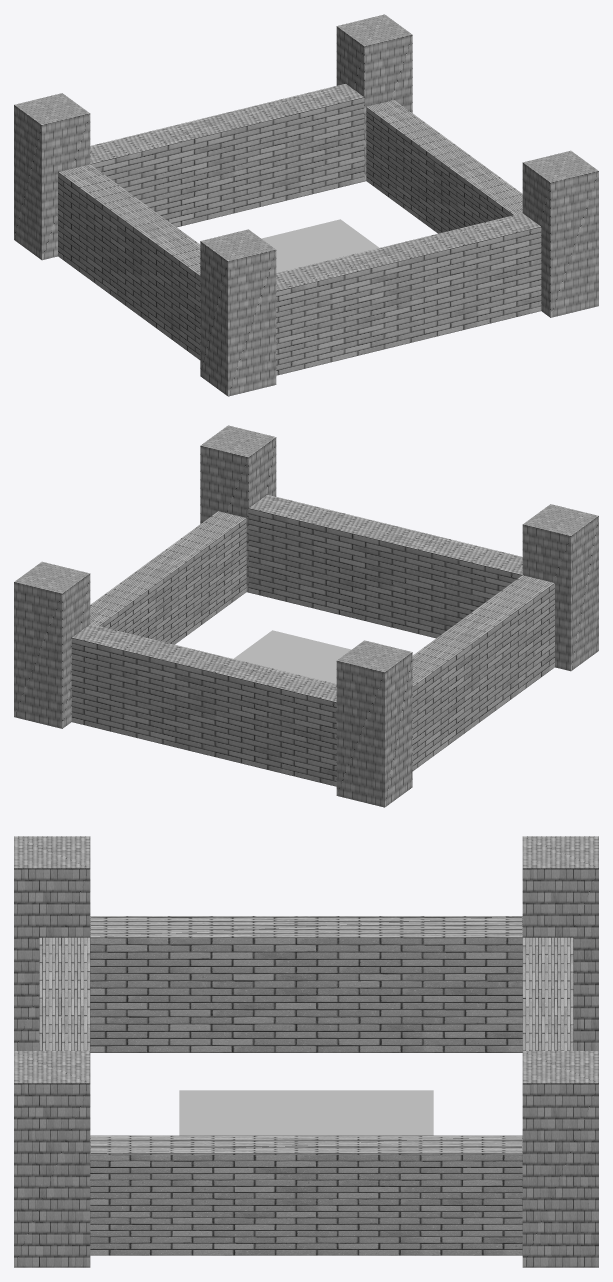
The model's file is castlelevel.FBX.
The picture shows the model from 3 angles, top to bottom: view 1: azimuth 30°, elevation 25°; view 2: azimuth 150°, elevation 25°; view 3: azimuth 270°, elevation 25°; orthographic projection. The views are drawn at different scales.
Visible parts, largest first — view 1: Box007, Box008, Box009, Box010, Box005, Box004, Box006, Box003, Plane001; view 2: Box008, Box007, Box009, Box010, Box006, Box003, Box005, Box004, Plane001; view 3: Box009, Box010, Box003, Box004, Plane001, Box005, Box006, Box007, Box008.
Part boxes in pixels (bbox=[...]): Box007: bbox=[276, 213, 541, 375]; Box008: bbox=[90, 83, 364, 227]; Box009: bbox=[58, 164, 200, 359]; Box010: bbox=[366, 100, 522, 233]; Box005: bbox=[200, 229, 276, 396]; Box004: bbox=[522, 150, 598, 317]; Box006: bbox=[14, 93, 90, 260]; Box003: bbox=[336, 14, 412, 181]; Plane001: bbox=[261, 219, 379, 272]; Box008: bbox=[71, 624, 336, 786]; Box007: bbox=[246, 494, 522, 638]; Box009: bbox=[412, 575, 554, 770]; Box010: bbox=[90, 511, 246, 644]; Box006: bbox=[336, 640, 412, 807]; Box003: bbox=[14, 561, 90, 728]; Box005: bbox=[522, 504, 598, 671]; Box004: bbox=[200, 425, 276, 592]; Plane001: bbox=[233, 630, 351, 683]; Box009: bbox=[90, 916, 522, 1052]; Box010: bbox=[90, 1135, 522, 1255]; Box003: bbox=[522, 1051, 598, 1267]; Box004: bbox=[14, 1051, 90, 1267]; Plane001: bbox=[179, 1090, 433, 1135]; Box005: bbox=[14, 836, 90, 1050]; Box006: bbox=[522, 836, 598, 1050]; Box007: bbox=[39, 937, 90, 1050]; Box008: bbox=[522, 937, 573, 1050].
Bounding box in the file's own units: 230 × 80 × 230.
